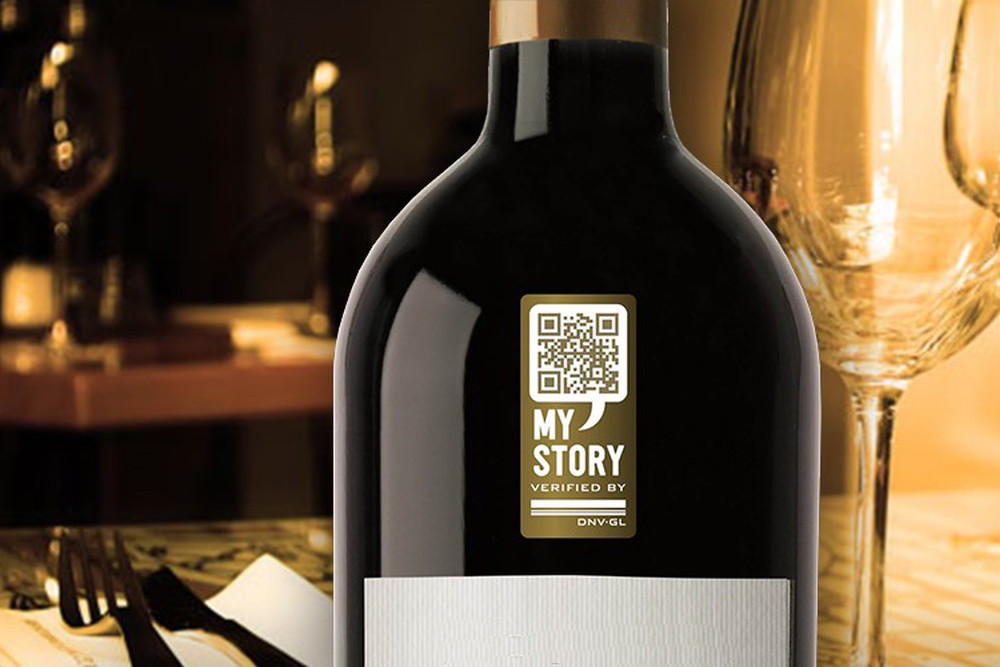qr_code: (527, 301, 625, 398)
